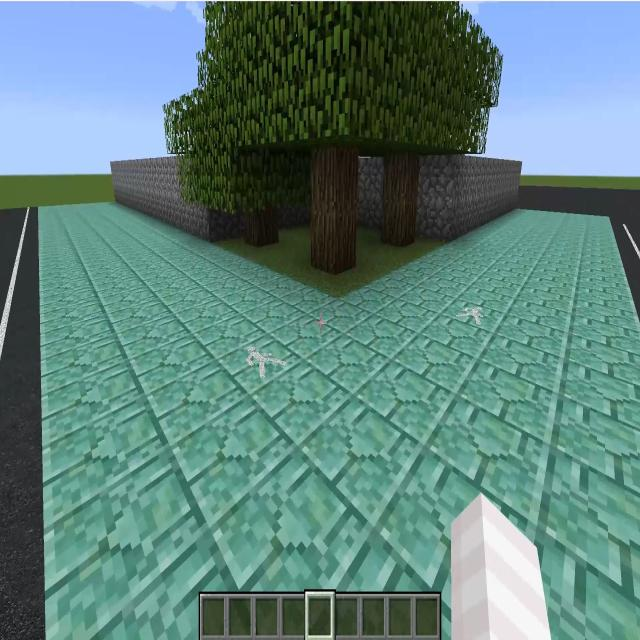road: (0, 208, 44, 639), (522, 188, 640, 324)
sidewalk: (38, 204, 640, 639)
